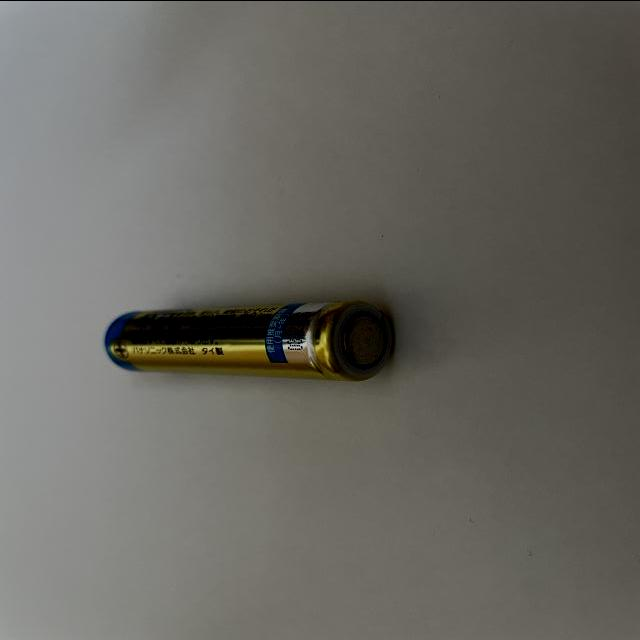AA: (102, 298, 392, 382)
